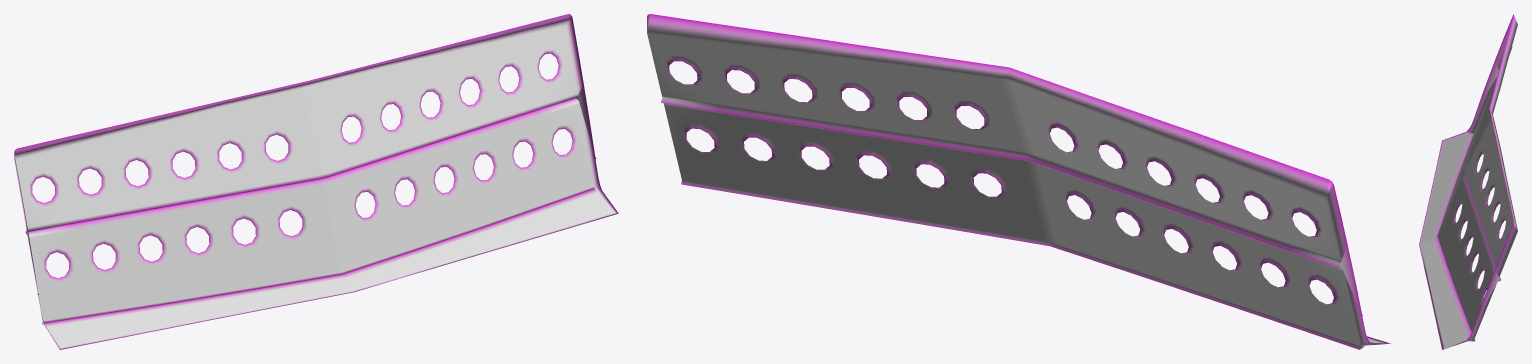
The model's file is Car_Buick_GrandNational_1987_Grille_SetD.fbx.
3 renders of one model, left to right at view 1: azimuth 30°, elevation 25°; view 2: azimuth 150°, elevation 25°; view 3: azimuth 270°, elevation 25°, orthographic. The views are drawn at different scales.
Visible parts, largest first — view 1: Grille 6; view 2: Grille 6; view 3: Grille 6.
Boxes of the visible parts, x1,y1,x2,y2 form: Grille 6: (14, 14, 618, 349); Grille 6: (647, 14, 1390, 349); Grille 6: (1419, 14, 1517, 349).
Size of the model in its own units: 0.7802 by 0.2378 by 0.1555.
